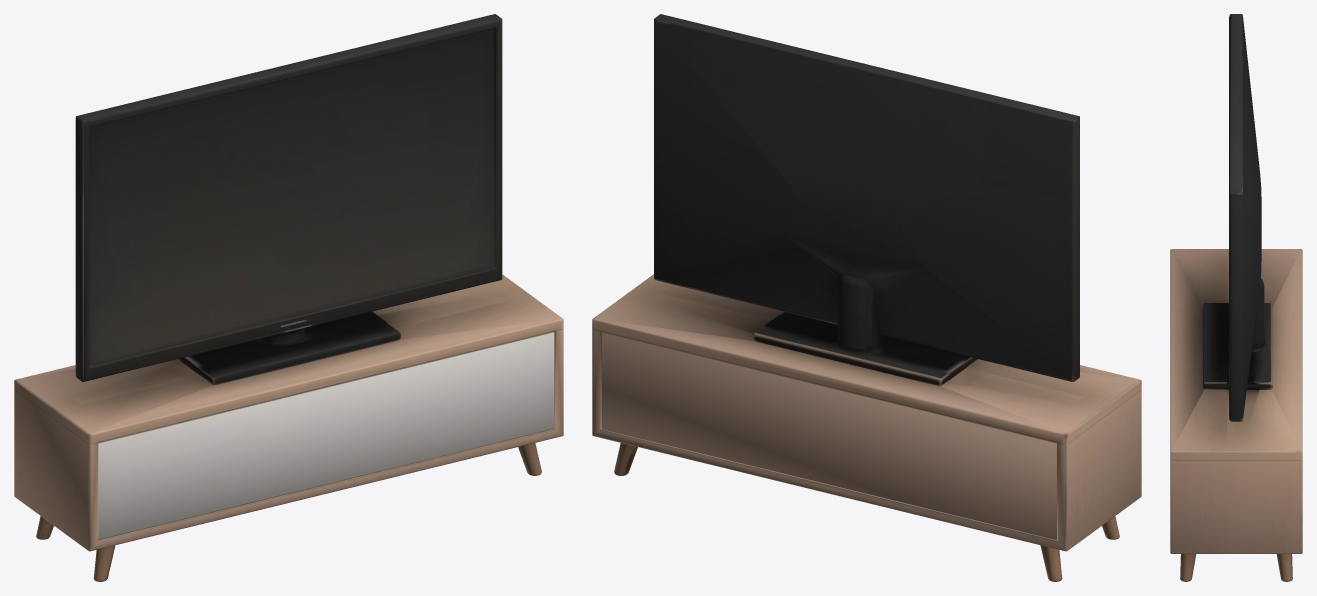
Rendered from Furniture__television_stand_realistic_style_7e1ae602_v4.cluster.glb.
3 renders of one model, left to right at view 1: azimuth 30°, elevation 25°; view 2: azimuth 150°, elevation 25°; view 3: azimuth 270°, elevation 25°, orthographic. The views are drawn at different scales.
Visible parts, largest first — view 1: mesh_input; view 2: mesh_input; view 3: mesh_input.
Part boxes in pixels (left/top/right/bottom): mesh_input: left=14, top=14, right=563, bottom=581; mesh_input: left=592, top=14, right=1141, bottom=581; mesh_input: left=1170, top=14, right=1302, bottom=581.
Bounding box in the file's own units: 1.9 × 1.67 × 0.5234.
Materials: 1 (1 with a texture image).
